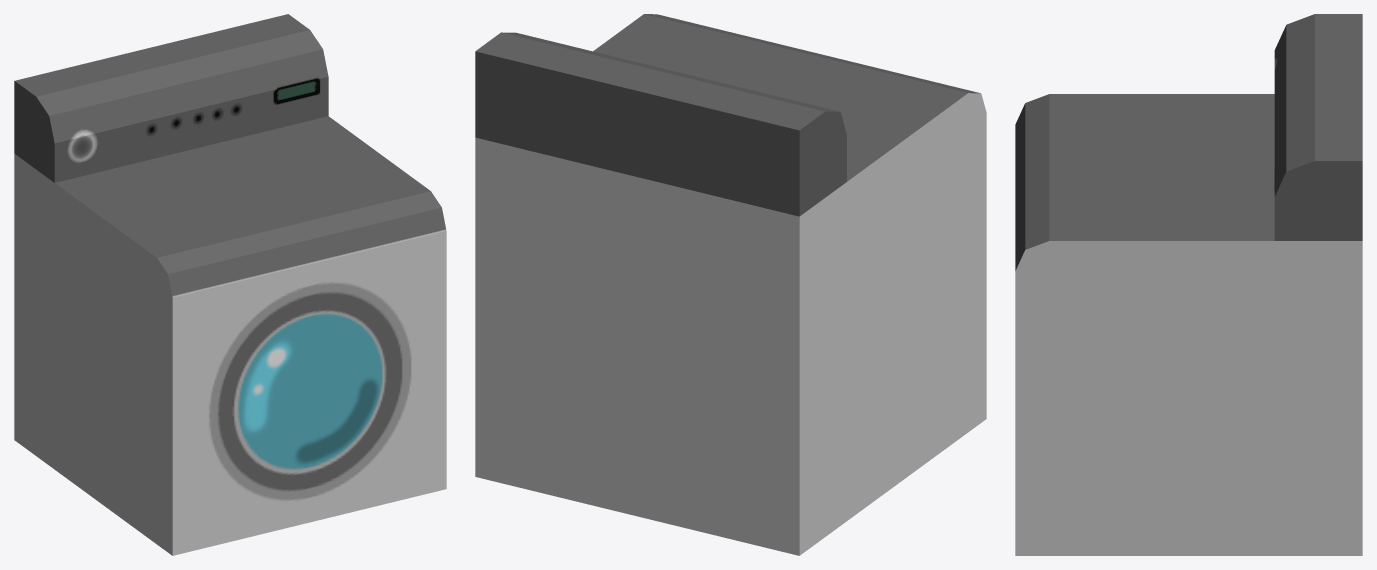
The model's file is WashMachine.fbx.
The picture shows the model from 3 angles, left to right: view 1: azimuth 30°, elevation 25°; view 2: azimuth 150°, elevation 25°; view 3: azimuth 270°, elevation 25°; orthographic projection. The views are drawn at different scales.
Visible parts, largest first — view 1: Lavadora; view 2: Lavadora; view 3: Lavadora.
Part boxes in pixels (<box>): Lavadora: <box>14,14,446,555</box>; Lavadora: <box>475,14,986,555</box>; Lavadora: <box>1015,14,1362,555</box>.
Bounding box in the file's own units: 200 × 251 × 200.
